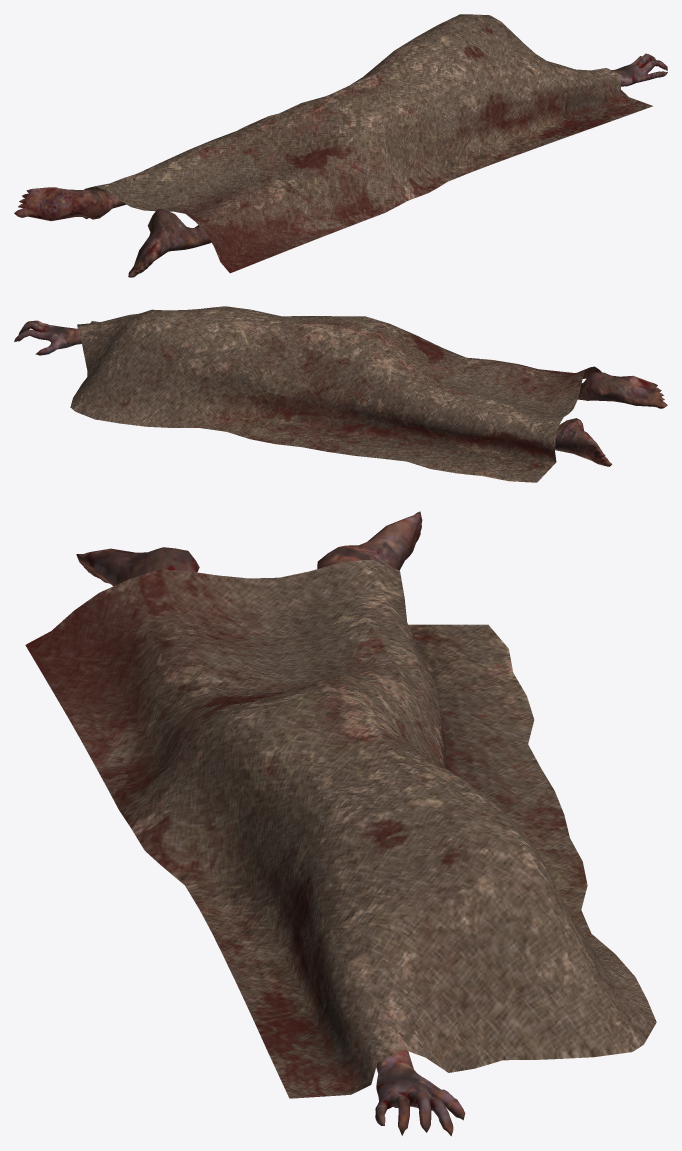
The model's file is bodies1.glb.
The picture shows the model from 3 angles, top to bottom: view 1: azimuth 30°, elevation 25°; view 2: azimuth 150°, elevation 25°; view 3: azimuth 270°, elevation 25°; orthographic projection. The views are drawn at different scales.
Parts seen in each view (by area): view 1: corpse_telega_other_items_0; view 2: corpse_telega_other_items_0; view 3: corpse_telega_other_items_0.
Boxes of the visible parts, x1,y1,x2,y2 form: corpse_telega_other_items_0: [14, 14, 667, 277]; corpse_telega_other_items_0: [14, 306, 667, 482]; corpse_telega_other_items_0: [25, 511, 656, 1136].
Size of the model in its own units: 3.06 by 0.4018 by 1.41.
Materials: 1 (1 with a texture image).
